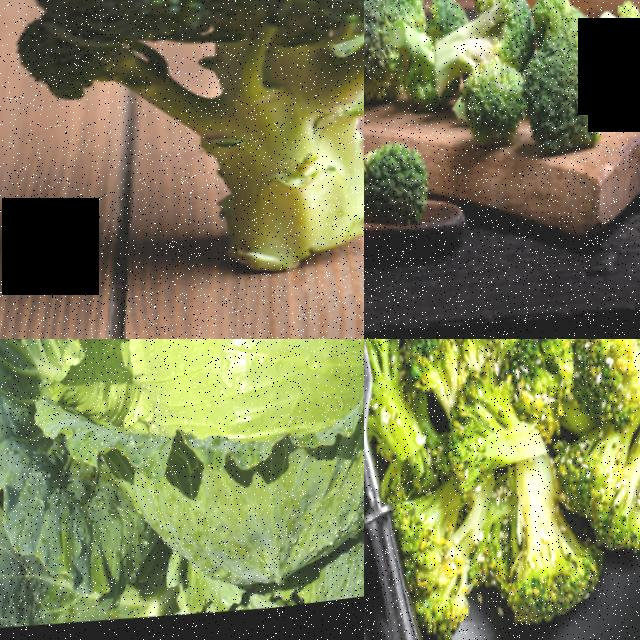broccoli: (0, 0, 364, 339), (489, 451, 590, 640), (512, 0, 608, 176), (390, 475, 491, 640), (417, 0, 515, 158), (550, 387, 640, 556), (440, 339, 539, 477), (364, 136, 445, 237), (585, 0, 640, 136), (364, 0, 407, 128)
cabbage: (44, 339, 364, 492)
